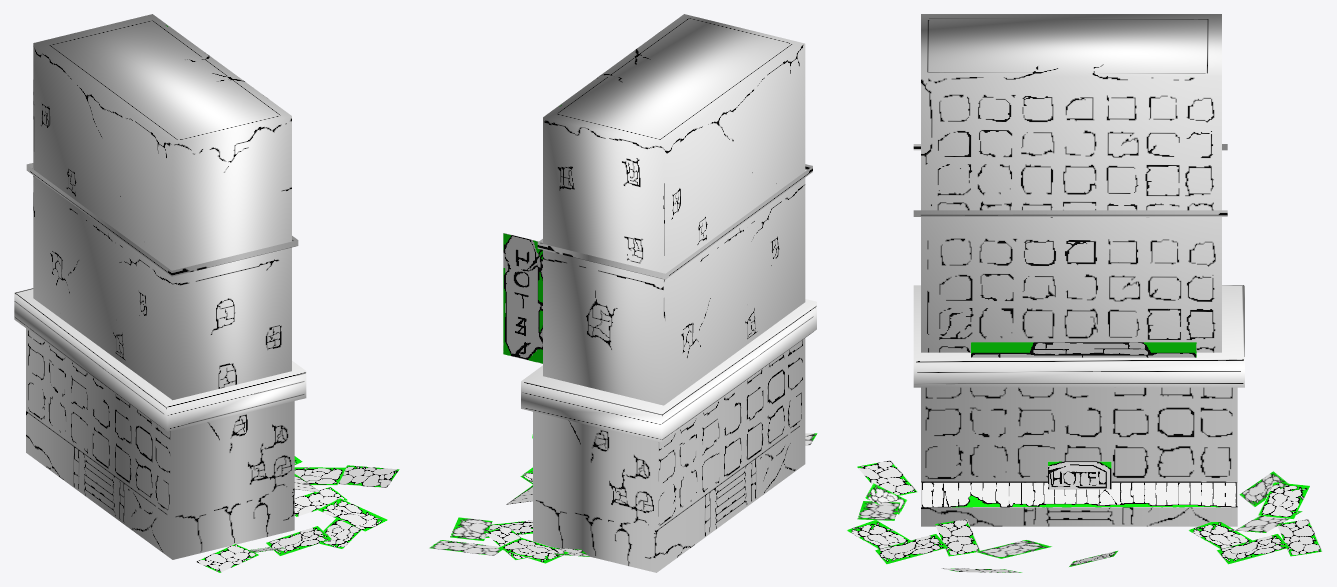
File: Building_04_02.fbx
The picture shows the model from 3 angles, left to right: view 1: azimuth 30°, elevation 25°; view 2: azimuth 150°, elevation 25°; view 3: azimuth 270°, elevation 25°; orthographic projection. The views are drawn at different scales.
Parts seen in each view (by area): view 1: Building_04_02; view 2: Building_04_02; view 3: Building_04_02.
Boxes of the visible parts, x1,y1,x2,y2 form: Building_04_02: (14, 14, 399, 572); Building_04_02: (429, 14, 817, 572); Building_04_02: (846, 14, 1322, 572).
Bounding box in the file's own units: 91.74 × 147 × 138.
